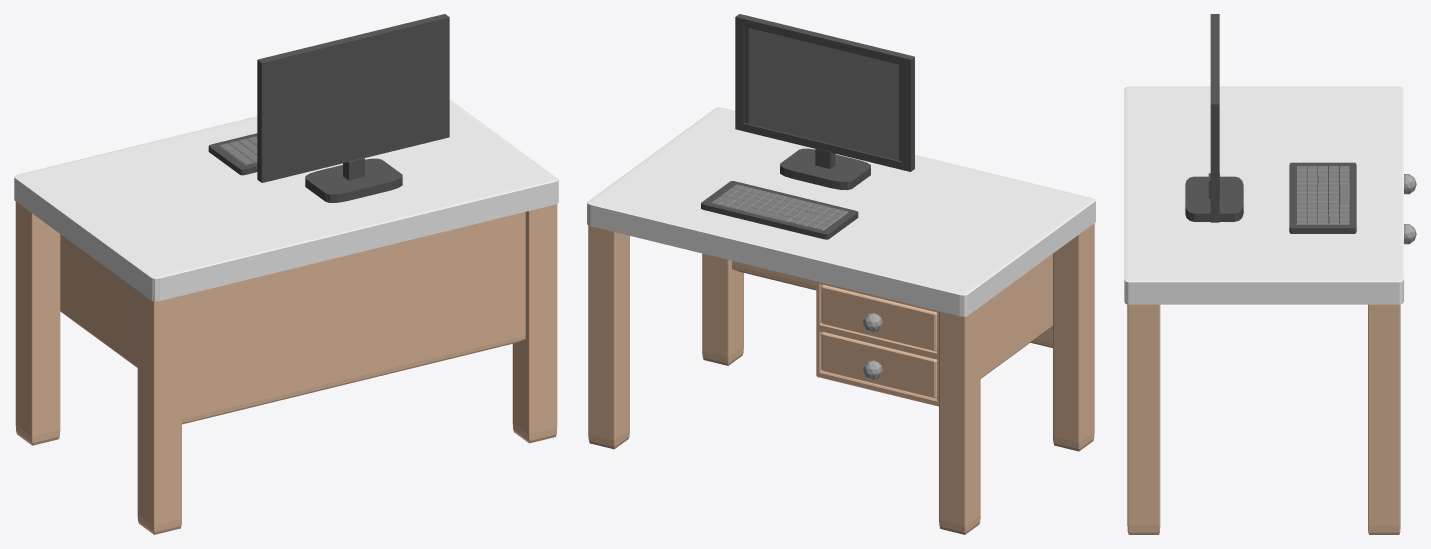
The model's file is Worktable.fbx.
3 views of the same model, side by side, from view 1: azimuth 30°, elevation 25°; view 2: azimuth 150°, elevation 25°; view 3: azimuth 270°, elevation 25° (orthographic). The views are drawn at different scales.
Visible parts, largest first — view 1: Table 1, PC 1, Keyboard 1; view 2: Table 1, PC 1, Keyboard 1; view 3: Table 1, Keyboard 1, PC 1.
Part boxes in pixels (<box>): Table 1: <box>14,99,558,534</box>; PC 1: <box>257,14,449,202</box>; Keyboard 1: <box>208,133,257,175</box>; Table 1: <box>587,107,1095,534</box>; PC 1: <box>735,14,914,190</box>; Keyboard 1: <box>701,181,858,239</box>; Table 1: <box>1124,86,1416,534</box>; Keyboard 1: <box>1289,162,1356,233</box>; PC 1: <box>1185,14,1243,222</box>.
Bounding box in the file's own units: 282 × 268 × 178.
